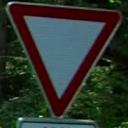preferencia: (6, 2, 123, 122)
